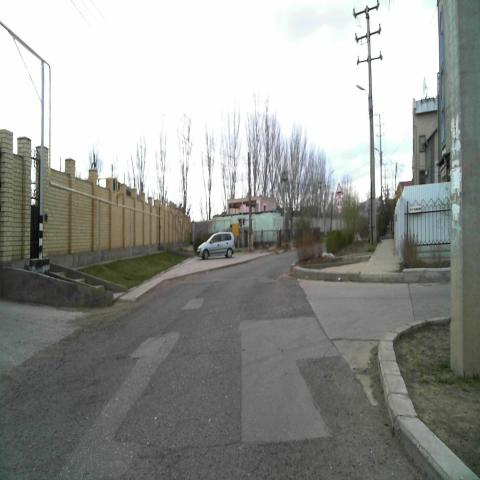1_17: (335, 180, 344, 196)
3_24: (336, 196, 343, 210)
